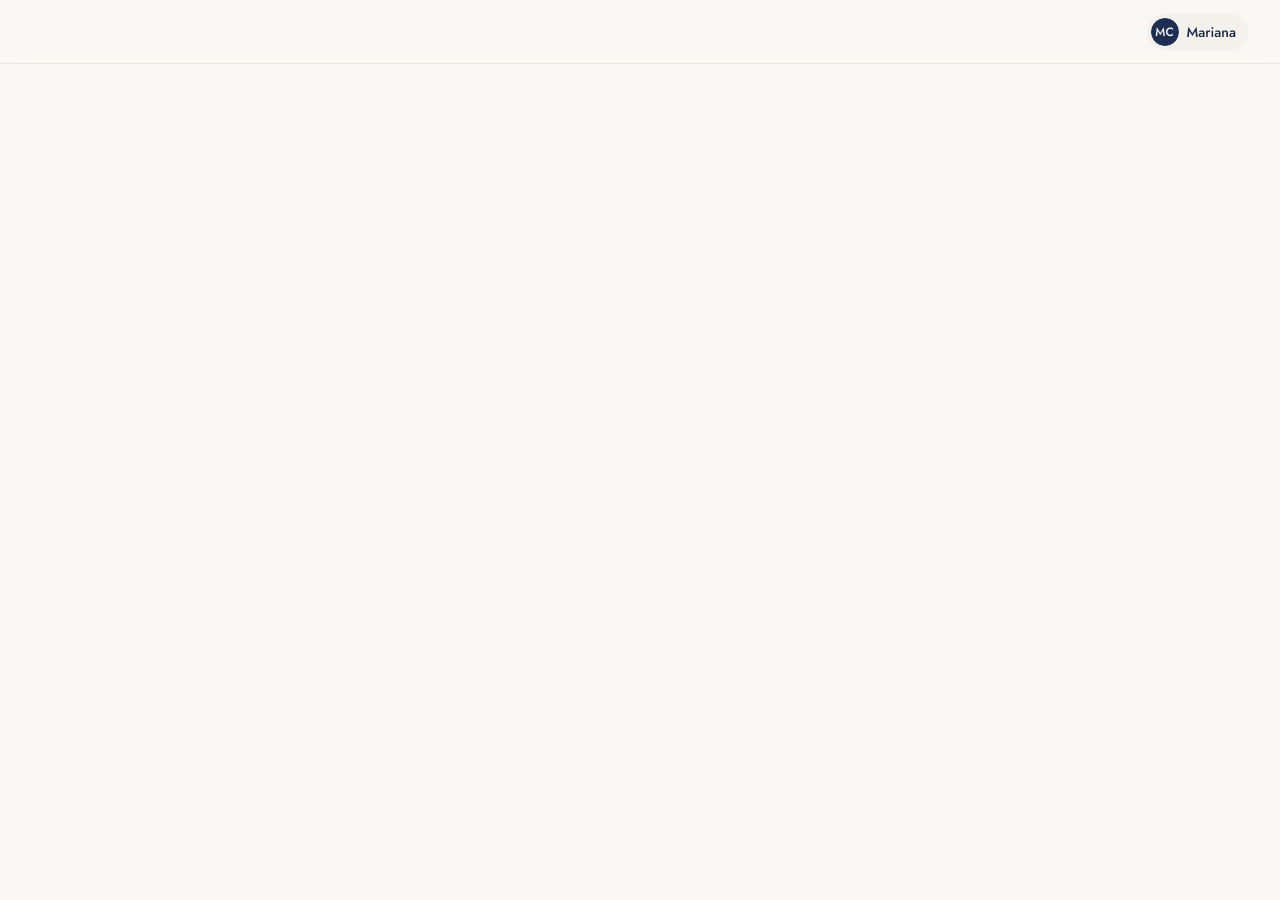
Scenario: menu do perfil no header › Visual alterna o tema e mantém o menu aberto
Press Enter in the button "MC Mariana", box left=1146, top=14, right=1248, bottom=50
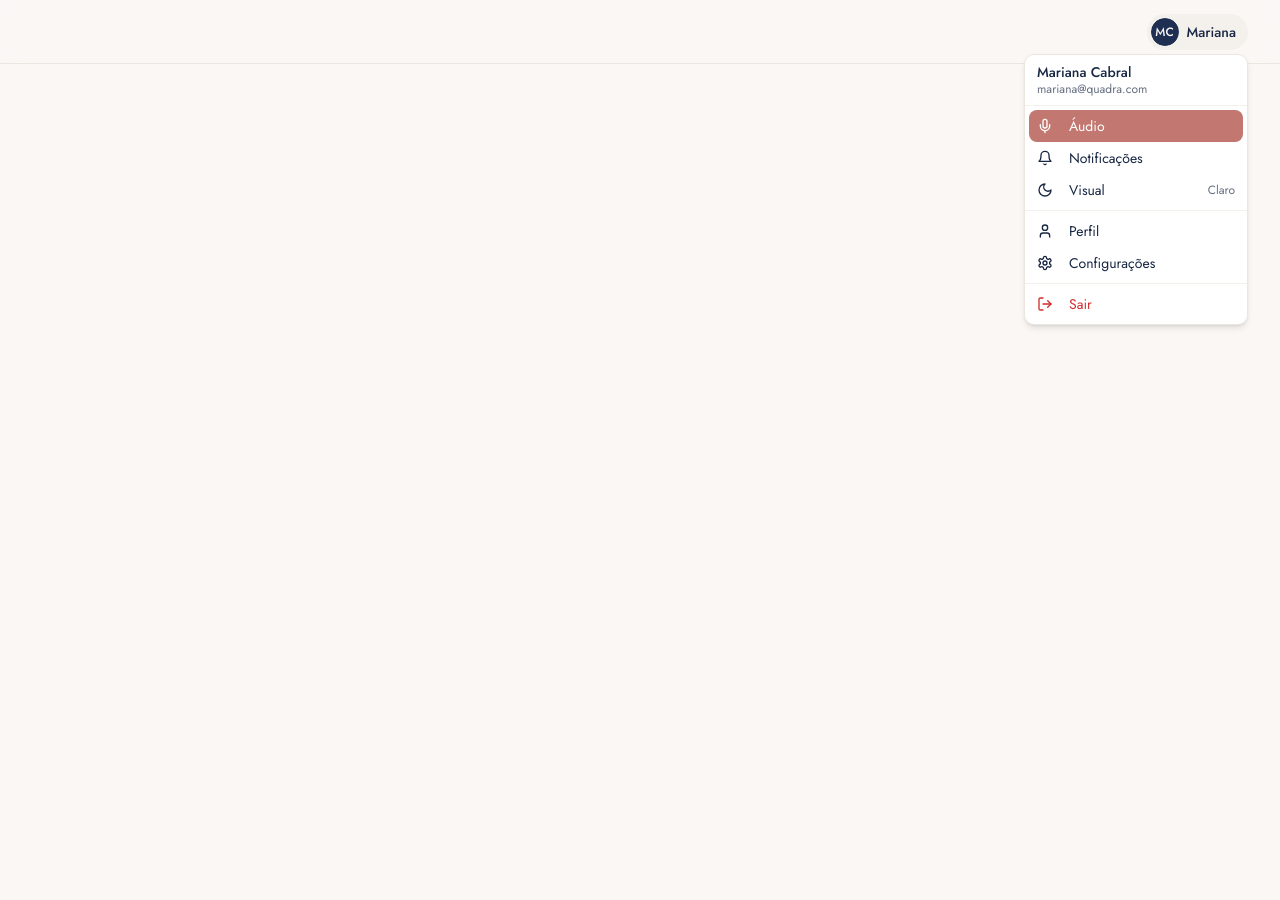
Now the menu item "Visual Claro" is shown
Click the menu item "Visual Claro".
click(1087, 190)  # box left=1029, top=174, right=1243, bottom=206
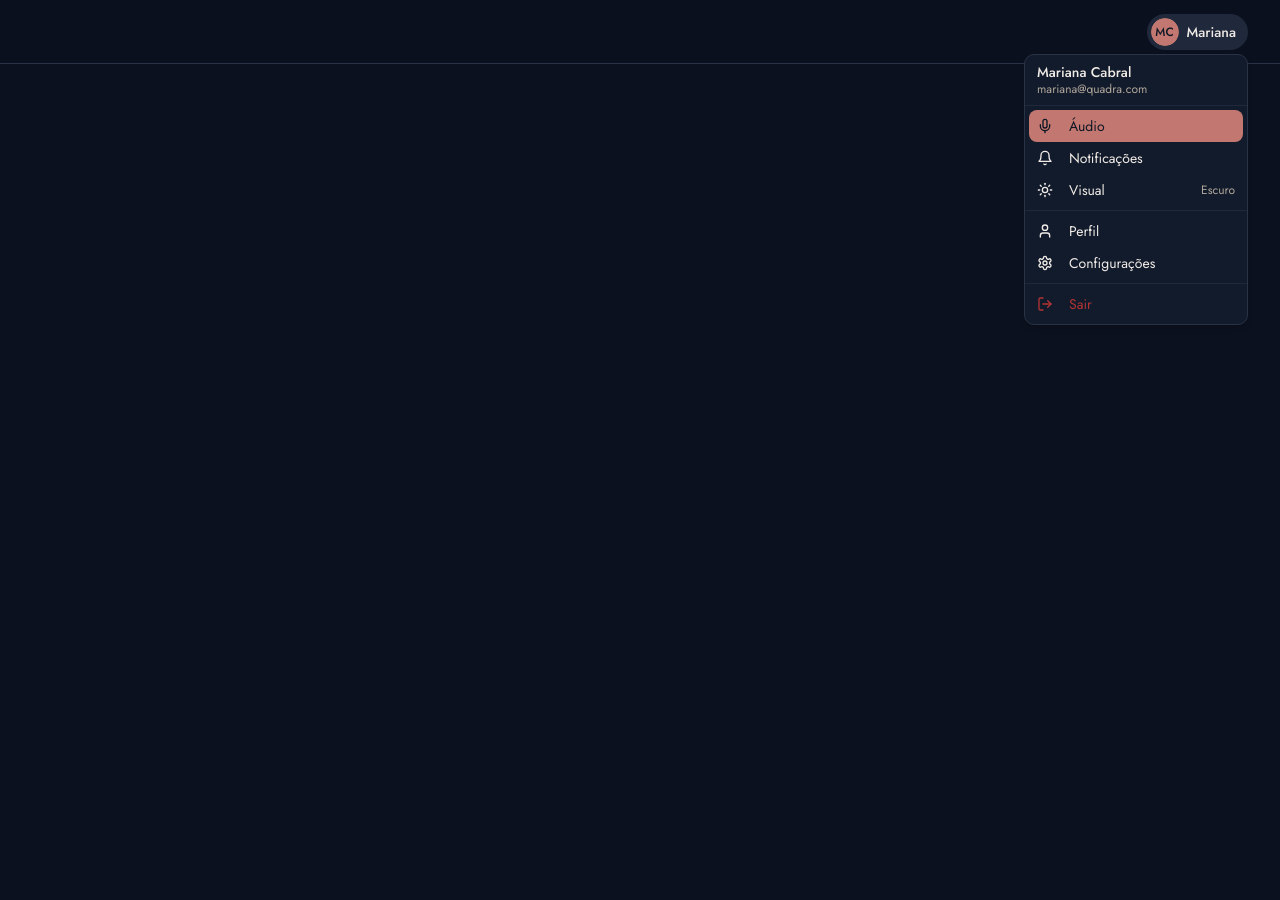
Now the menu item "Visual Escuro" is shown, box left=1029, top=174, right=1243, bottom=206
